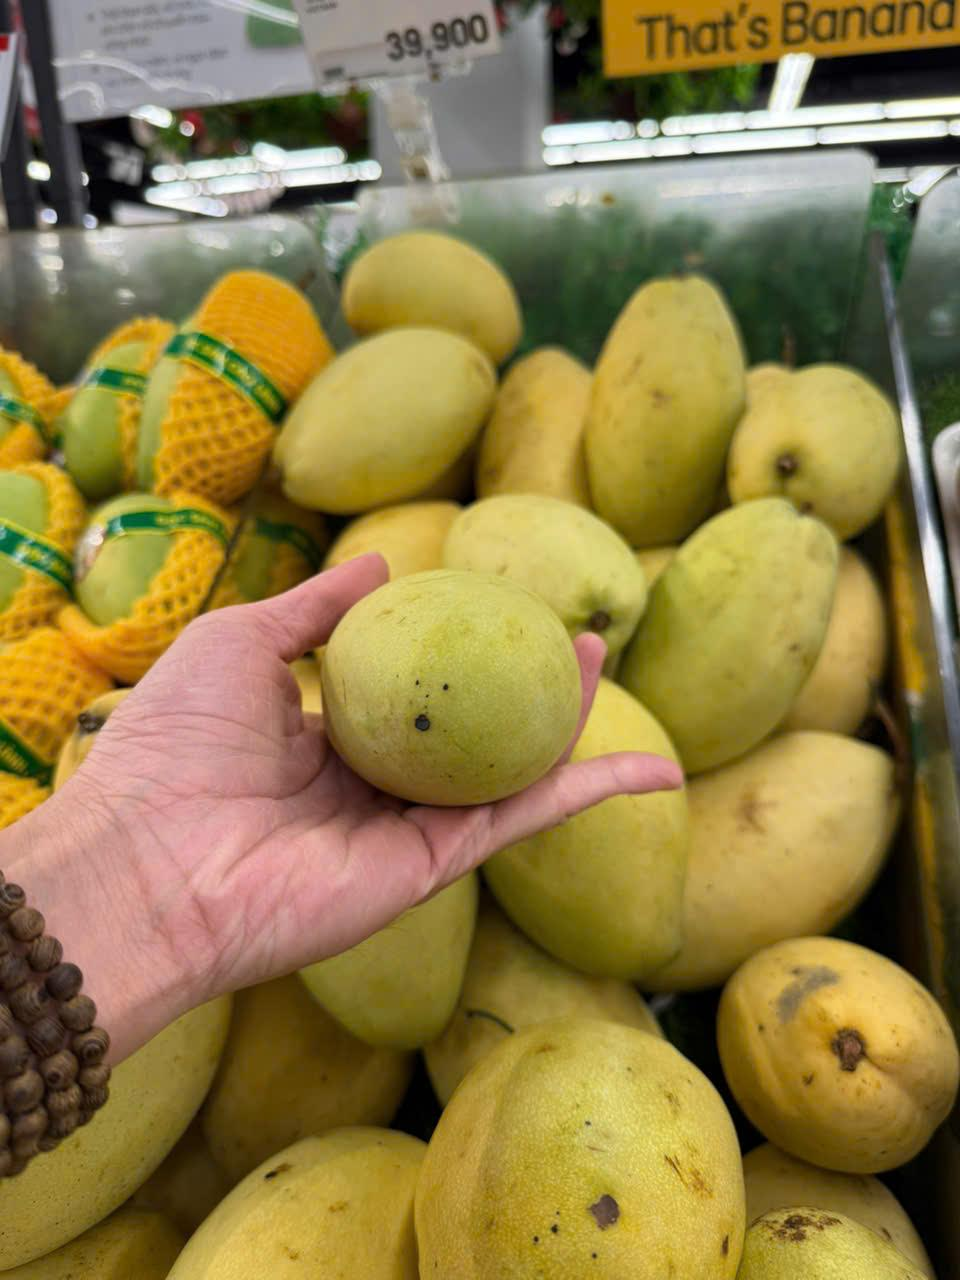mango: (402, 1003, 754, 1280), (315, 558, 592, 811), (718, 933, 960, 1176), (630, 496, 844, 766), (162, 1123, 430, 1280), (270, 331, 502, 498), (593, 278, 728, 524), (700, 773, 890, 943), (727, 368, 910, 520), (345, 223, 528, 338)
